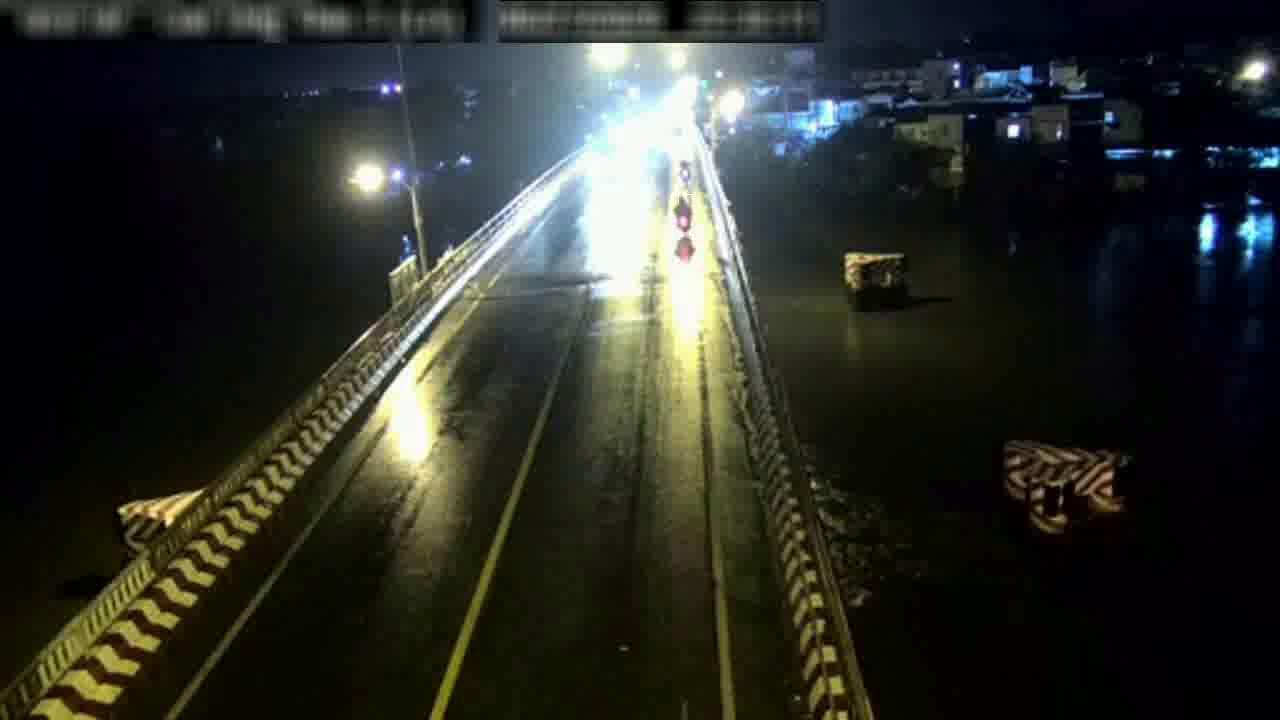motorbike: (672, 195, 695, 238)
